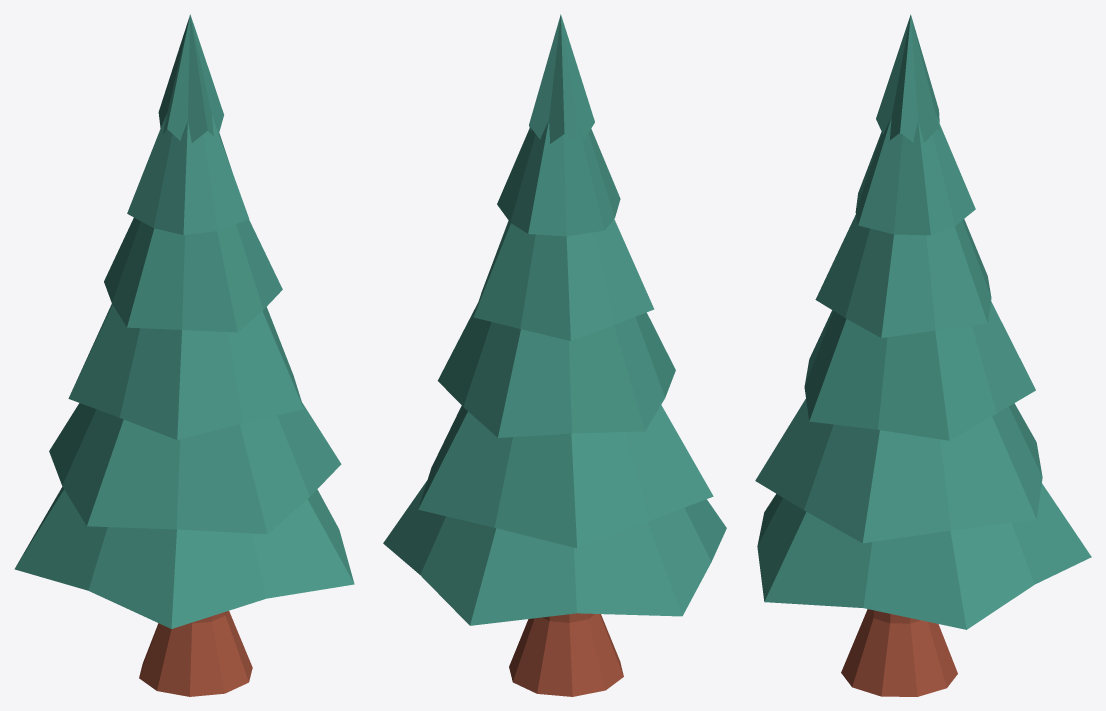
Rendered from pinetree3.fbx.
3 views of the same model, side by side, from view 1: azimuth 30°, elevation 25°; view 2: azimuth 150°, elevation 25°; view 3: azimuth 270°, elevation 25° (orthographic).
Parts seen in each view (by area): view 1: Cylinder; view 2: Cylinder; view 3: Cylinder.
Part boxes in pixels (left/top/right/bottom): Cylinder: left=14, top=14, right=354, bottom=696; Cylinder: left=383, top=14, right=726, bottom=696; Cylinder: left=755, top=14, right=1091, bottom=696.
Bounding box in the file's own units: 421 × 891 × 412.
